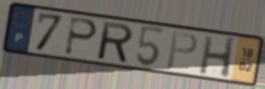5: (135, 24, 167, 69)
7: (35, 10, 66, 53)
H: (197, 34, 238, 80)
P: (63, 15, 100, 58), (165, 30, 200, 71)
R: (97, 20, 135, 65)
